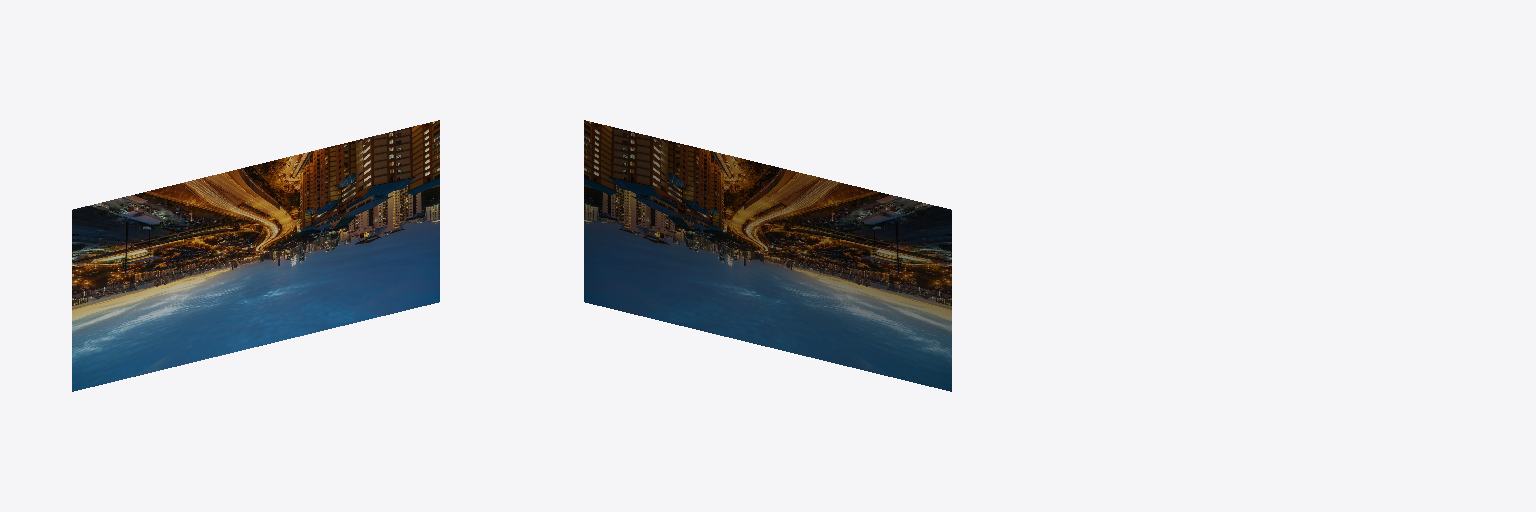
3 renders of one model, left to right at view 1: azimuth 30°, elevation 25°; view 2: azimuth 150°, elevation 25°; view 3: azimuth 270°, elevation 25°, orthographic.
Parts seen in each view (by area): view 1: Screen; view 2: Screen; view 3: none.
Part boxes in pixels (x1,y1,x2,y2): Screen: (72,120,439,391); Screen: (584,120,951,391).
Size of the model in its own units: 11.32 by 5.34 by 0.
Materials: 1 (1 with a texture image).